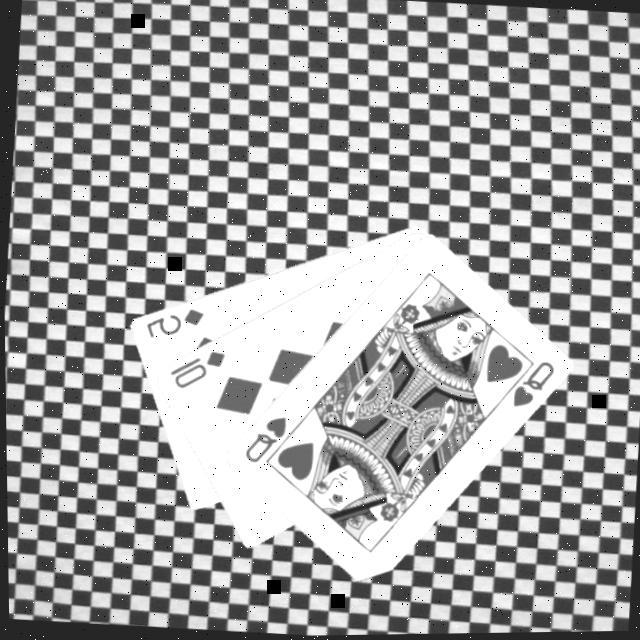10D: (162, 342, 226, 393)
5D: (140, 300, 204, 343)
QH: (489, 353, 556, 412), (237, 409, 288, 467)
